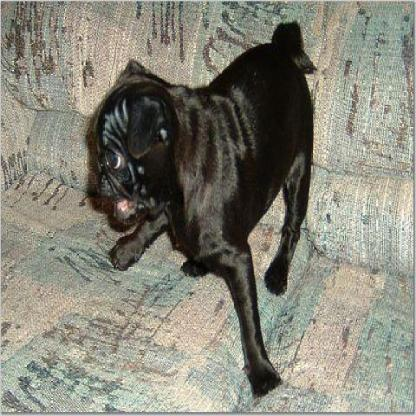pug: (86, 16, 322, 403)
